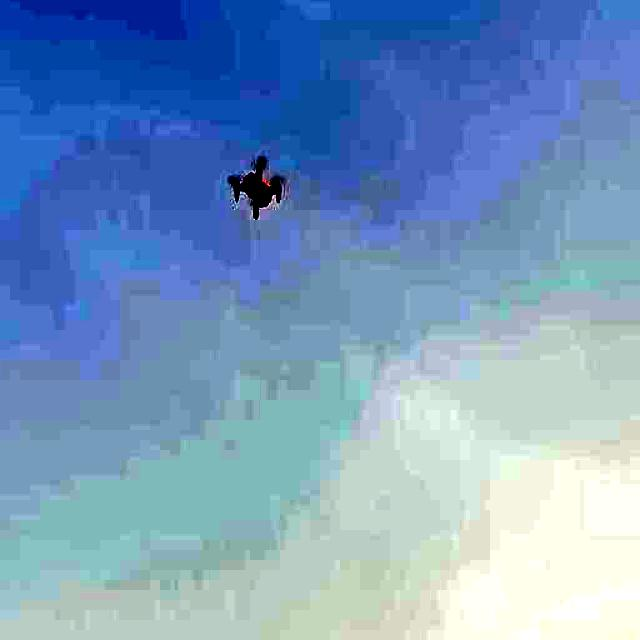bird: (224, 134, 289, 230)
